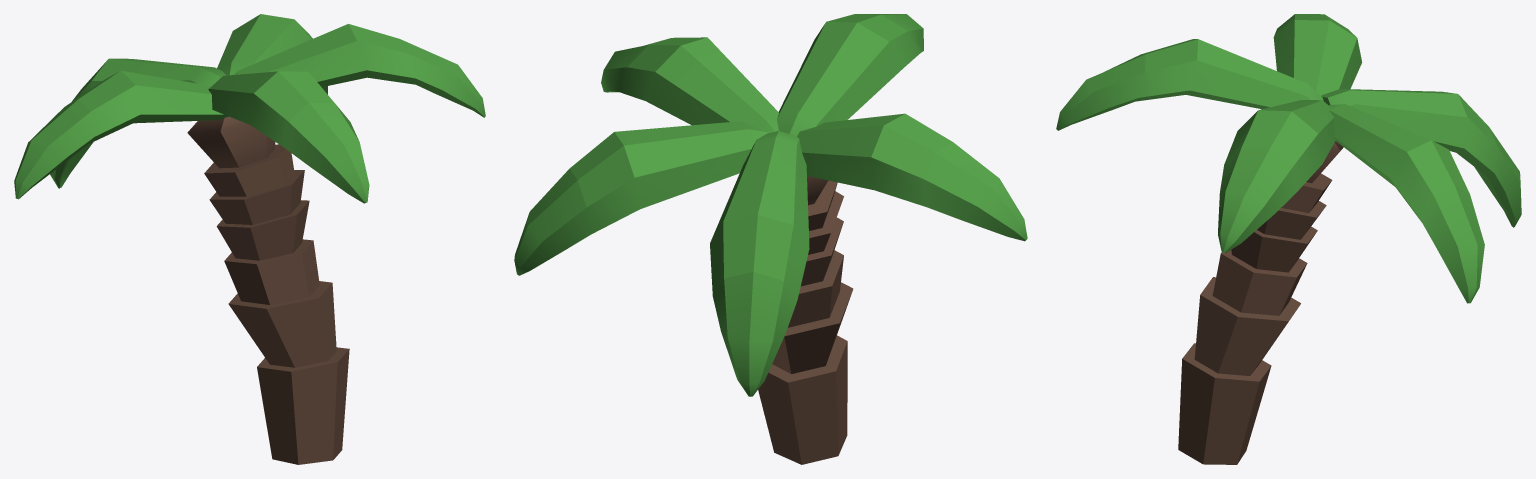
The model's file is BeachTree2.fbx.
3 renders of one model, left to right at view 1: azimuth 30°, elevation 25°; view 2: azimuth 150°, elevation 25°; view 3: azimuth 270°, elevation 25°, orthographic. The views are drawn at different scales.
Visible parts, largest first — view 1: pCylinder70, pCylinder71, pCylinder73, pCylinder69, pCylinder72, pCylinder74; view 2: pCylinder74, pCylinder72, pCylinder70, pCylinder73, pCylinder71, pCylinder69; view 3: pCylinder70, pCylinder72, pCylinder71, pCylinder69, pCylinder74, pCylinder73.
Part boxes in pixels (x1,y1,x2,y2): pCylinder70: (187,116,349,464); pCylinder71: (208,71,369,203); pCylinder73: (14,70,228,199); pCylinder69: (234,24,485,117); pCylinder72: (217,14,327,94); pCylinder74: (50,58,226,188); pCylinder74: (710,131,809,396); pCylinder72: (514,121,770,275); pCylinder70: (758,176,853,464); pCylinder73: (797,113,1027,241); pCylinder71: (777,14,923,136); pCylinder69: (601,37,778,132); pCylinder70: (1178,141,1343,464); pCylinder72: (1329,104,1484,303); pCylinder71: (1056,39,1323,130); pCylinder69: (1218,100,1335,253); pCylinder74: (1321,89,1521,227); pCylinder73: (1273,14,1362,95).
Bounding box in the file's own units: 7.69 × 6.86 × 7.26.
